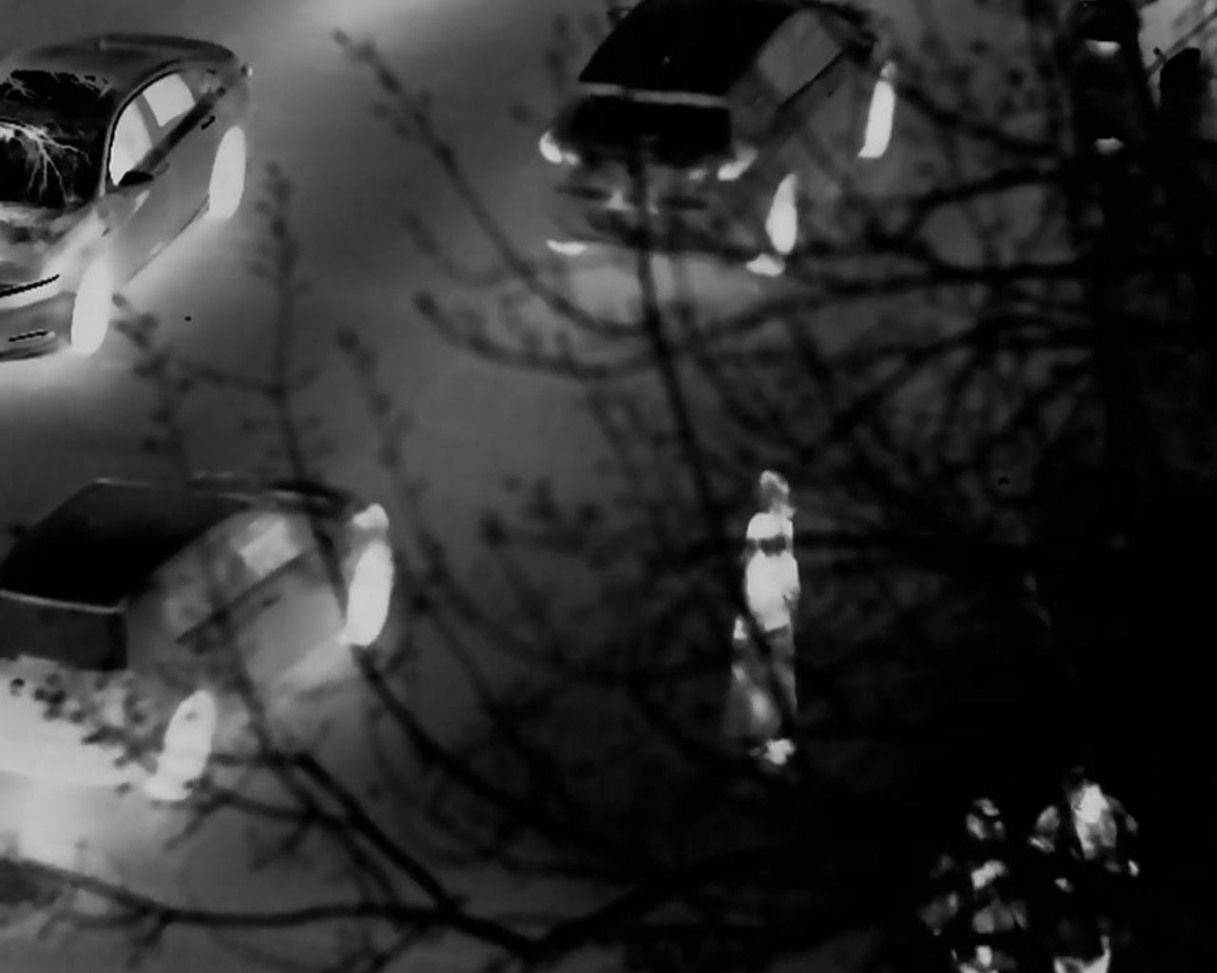person: (716, 512, 809, 766), (1034, 781, 1144, 973), (932, 794, 1029, 973), (728, 470, 807, 676)
